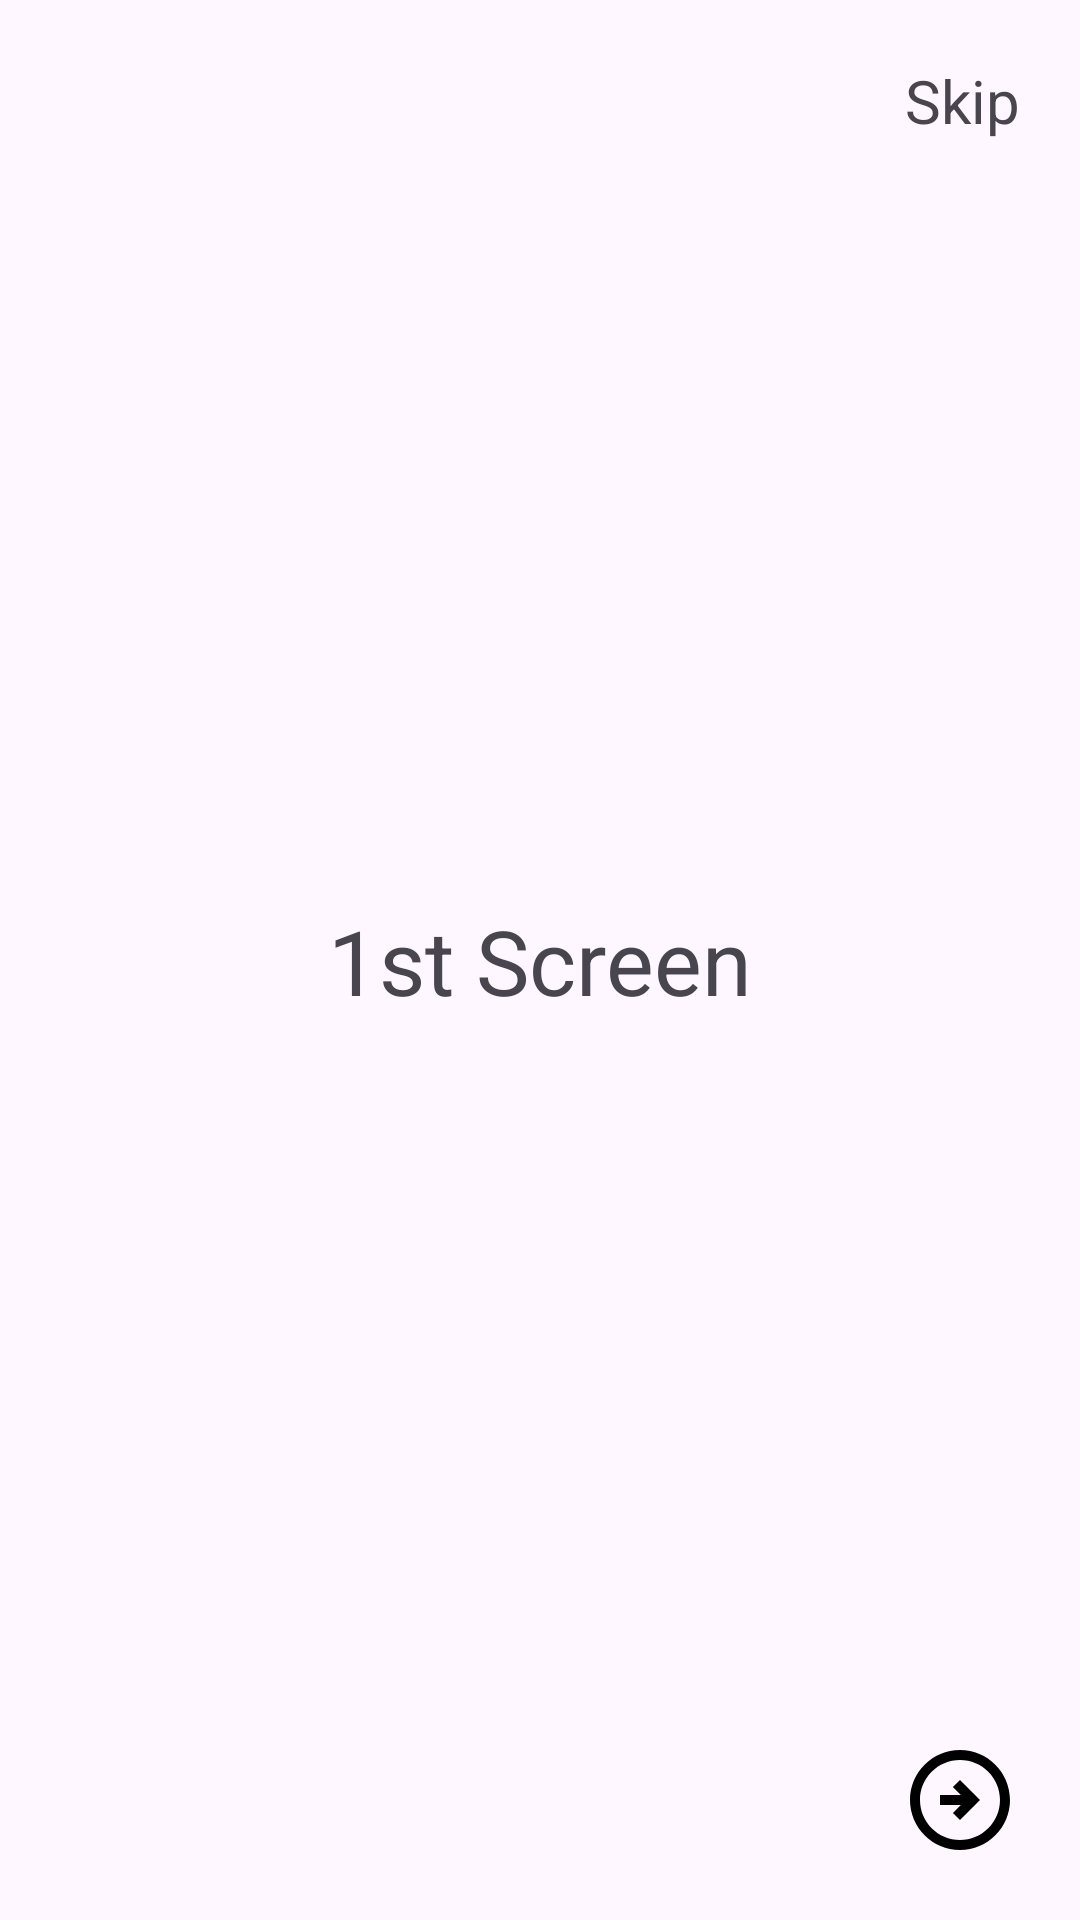

Named icons in this screenshot (1080 × 1920) and their bounding boxes, {"left": x1, "top": y1, "right": x2, "bottom": y2}:
arrow circle right: {"left": 910, "top": 1750, "right": 1010, "bottom": 1850}
